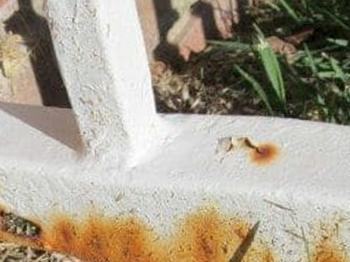rust: (4, 206, 163, 262), (187, 209, 350, 259), (244, 139, 284, 164)
